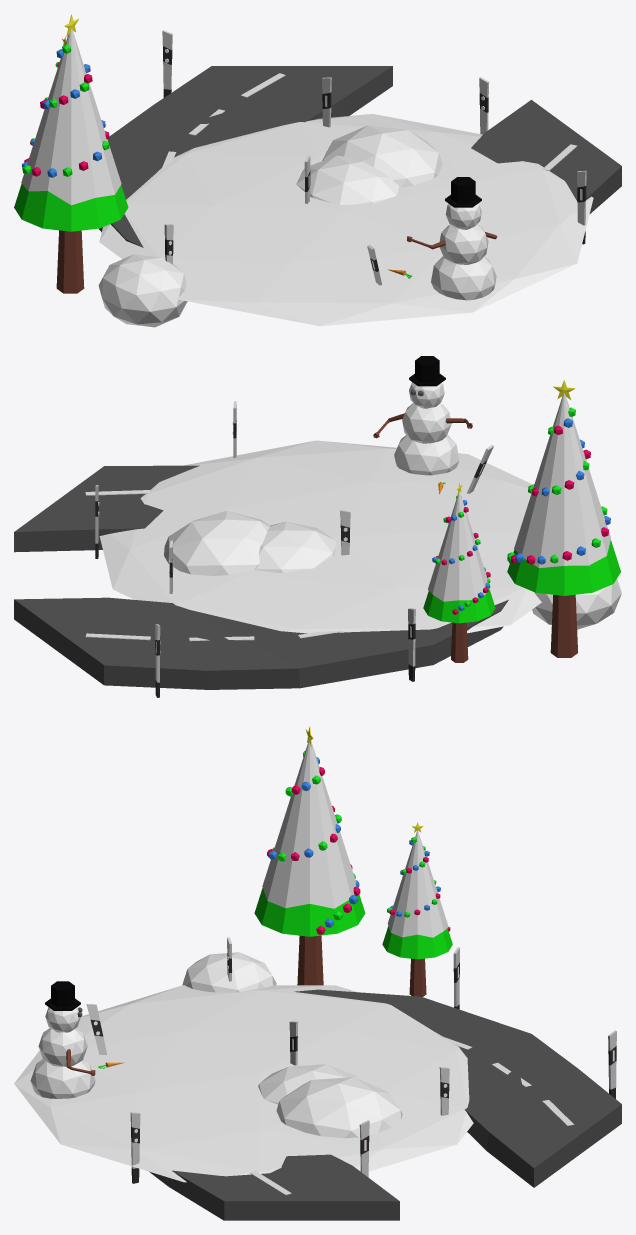
The model's file is street2_01_5.fbx.
3 views of the same model, one above another, from view 1: azimuth 30°, elevation 25°; view 2: azimuth 150°, elevation 25°; view 3: azimuth 270°, elevation 25° (orthographic). The views are drawn at different scales.
Visible parts, largest first — view 1: snowGround, snowOnTree.001, snowOnTree, nadelTree.004, snowGround.005, snowGround.004, snowGround.002, SnowmanLower, snowmanMiddle, snowmanHat, snowmanHead, penguin.020 (+3 smaller); view 2: snowGround, snowOnTree.001, snowOnTree, snowGround.004, nadelTree.004, nadelTree.007, snowGround.002, nadelTree.005, SnowmanLower, snowGround.005, snowmanMiddle, snowmanHat (+2 smaller); view 3: snowGround, snowOnTree.001, snowOnTree, snowGround.004, nadelTree.004, nadelTree.007, snowGround.005, nadelTree.005, SnowmanLower, snowGround.002, snowmanMiddle, snowmanHat (+1 smaller).
Part boxes in pixels (x1,y1,x2,y2): snowGround: (99, 114, 593, 326); snowOnTree.001: (99, 66, 621, 247); snowOnTree: (21, 29, 121, 205); nadelTree.004: (14, 184, 128, 293); snowGround.005: (98, 254, 187, 327); snowGround.004: (322, 125, 442, 187); snowGround.002: (296, 155, 400, 204); SnowmanLower: (431, 256, 496, 300); snowmanMiddle: (439, 224, 488, 264); snowmanHat: (445, 177, 481, 207); snowmanHead: (445, 203, 481, 229); penguin.020: (162, 30, 172, 97); snowGround: (99, 440, 541, 633); snowOnTree.001: (14, 465, 508, 689); snowOnTree: (514, 393, 610, 568); snowGround.004: (164, 511, 269, 575); nadelTree.004: (507, 540, 620, 657); nadelTree.007: (428, 491, 487, 601); snowGround.002: (255, 521, 335, 572); nadelTree.005: (423, 588, 495, 662); SnowmanLower: (394, 435, 459, 475); snowGround.005: (532, 578, 621, 629); snowmanMiddle: (402, 403, 451, 443); snowmanHat: (409, 356, 445, 386); snowGround: (14, 985, 473, 1182); snowOnTree.001: (149, 989, 621, 1220); snowOnTree: (262, 740, 356, 908); snowGround.004: (276, 1077, 402, 1138); nadelTree.004: (254, 888, 365, 985); nadelTree.007: (387, 830, 448, 937); snowGround.005: (182, 952, 276, 992); nadelTree.005: (382, 926, 452, 996); SnowmanLower: (30, 1059, 95, 1098); snowGround.002: (258, 1064, 361, 1104); snowmanMiddle: (38, 1028, 87, 1066); snowmanHat: (45, 981, 80, 1010).
Size of the model in its own units: 98.96 by 50.58 by 96.61.
